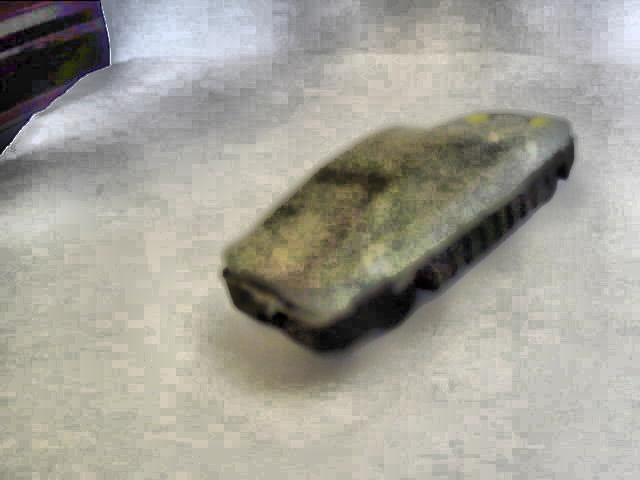normal_car: (216, 110, 574, 357)
